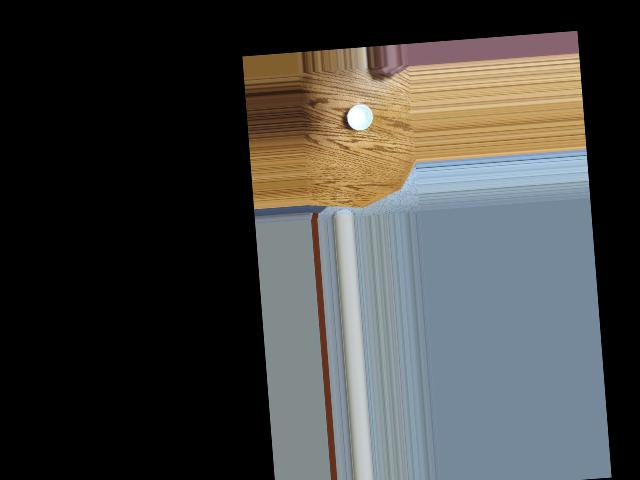cotage: (346, 98, 378, 133)
